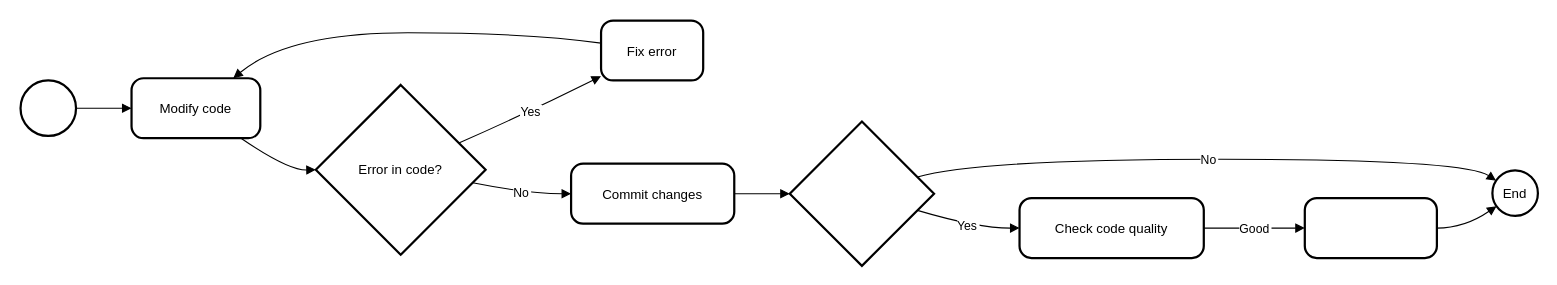
Image size: 1557x285. Some labels were removed from this diagram. The shapes that lost their labels are listed below. From the top down, each one's centre as x and y in pixels, then its label:
the point at 48,108: Start
the point at 861,193: Tests pass?
the point at 1370,227: Submit code
